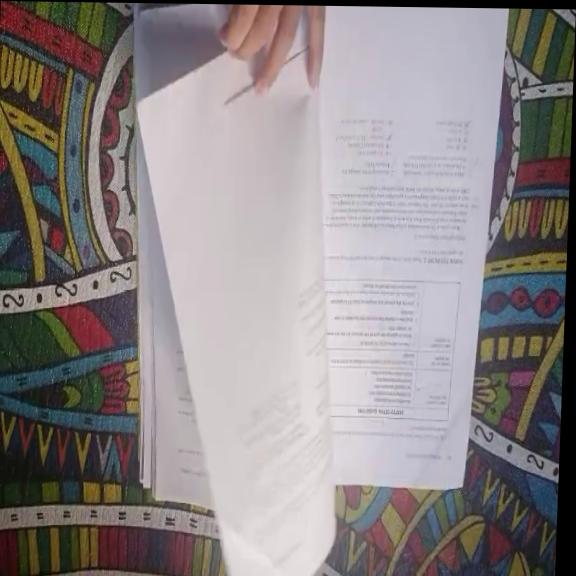Kertas: (125, 40, 348, 576), (137, 54, 334, 575), (320, 8, 506, 486)
